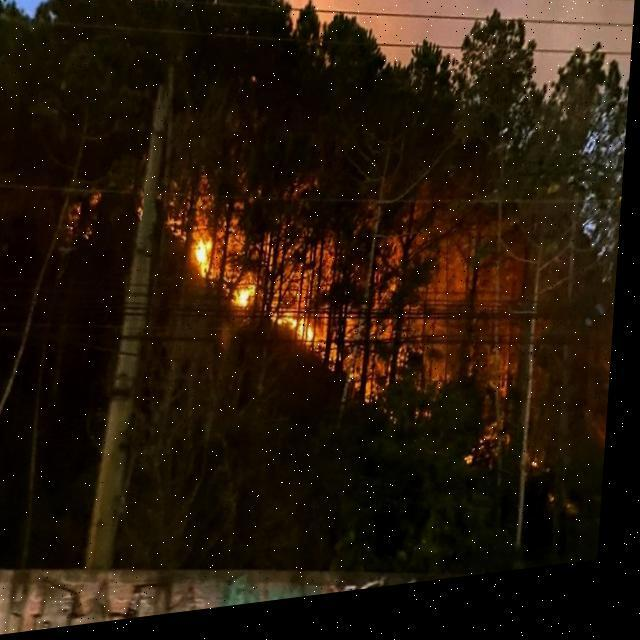Fire: (291, 319, 321, 356), (194, 236, 216, 286), (237, 292, 260, 319)
